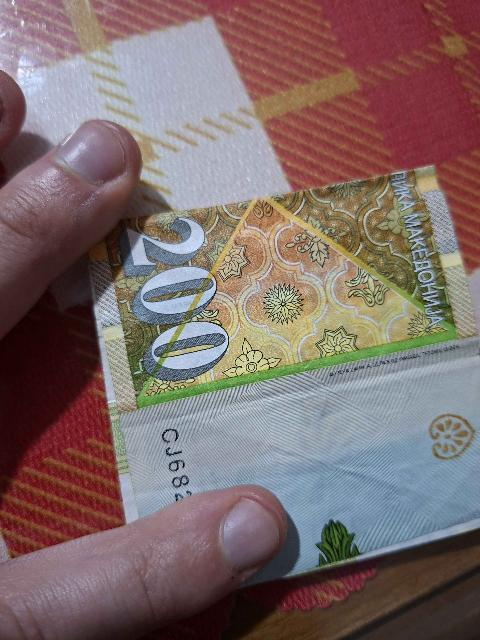200_note: (91, 168, 479, 579)
